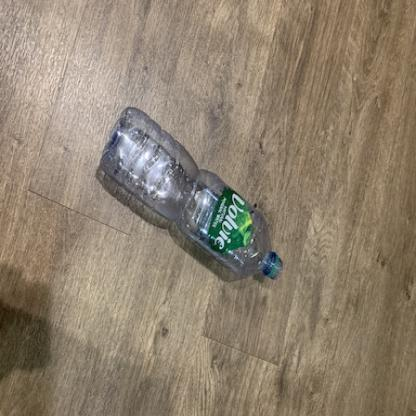trash: (96, 102, 284, 280)
